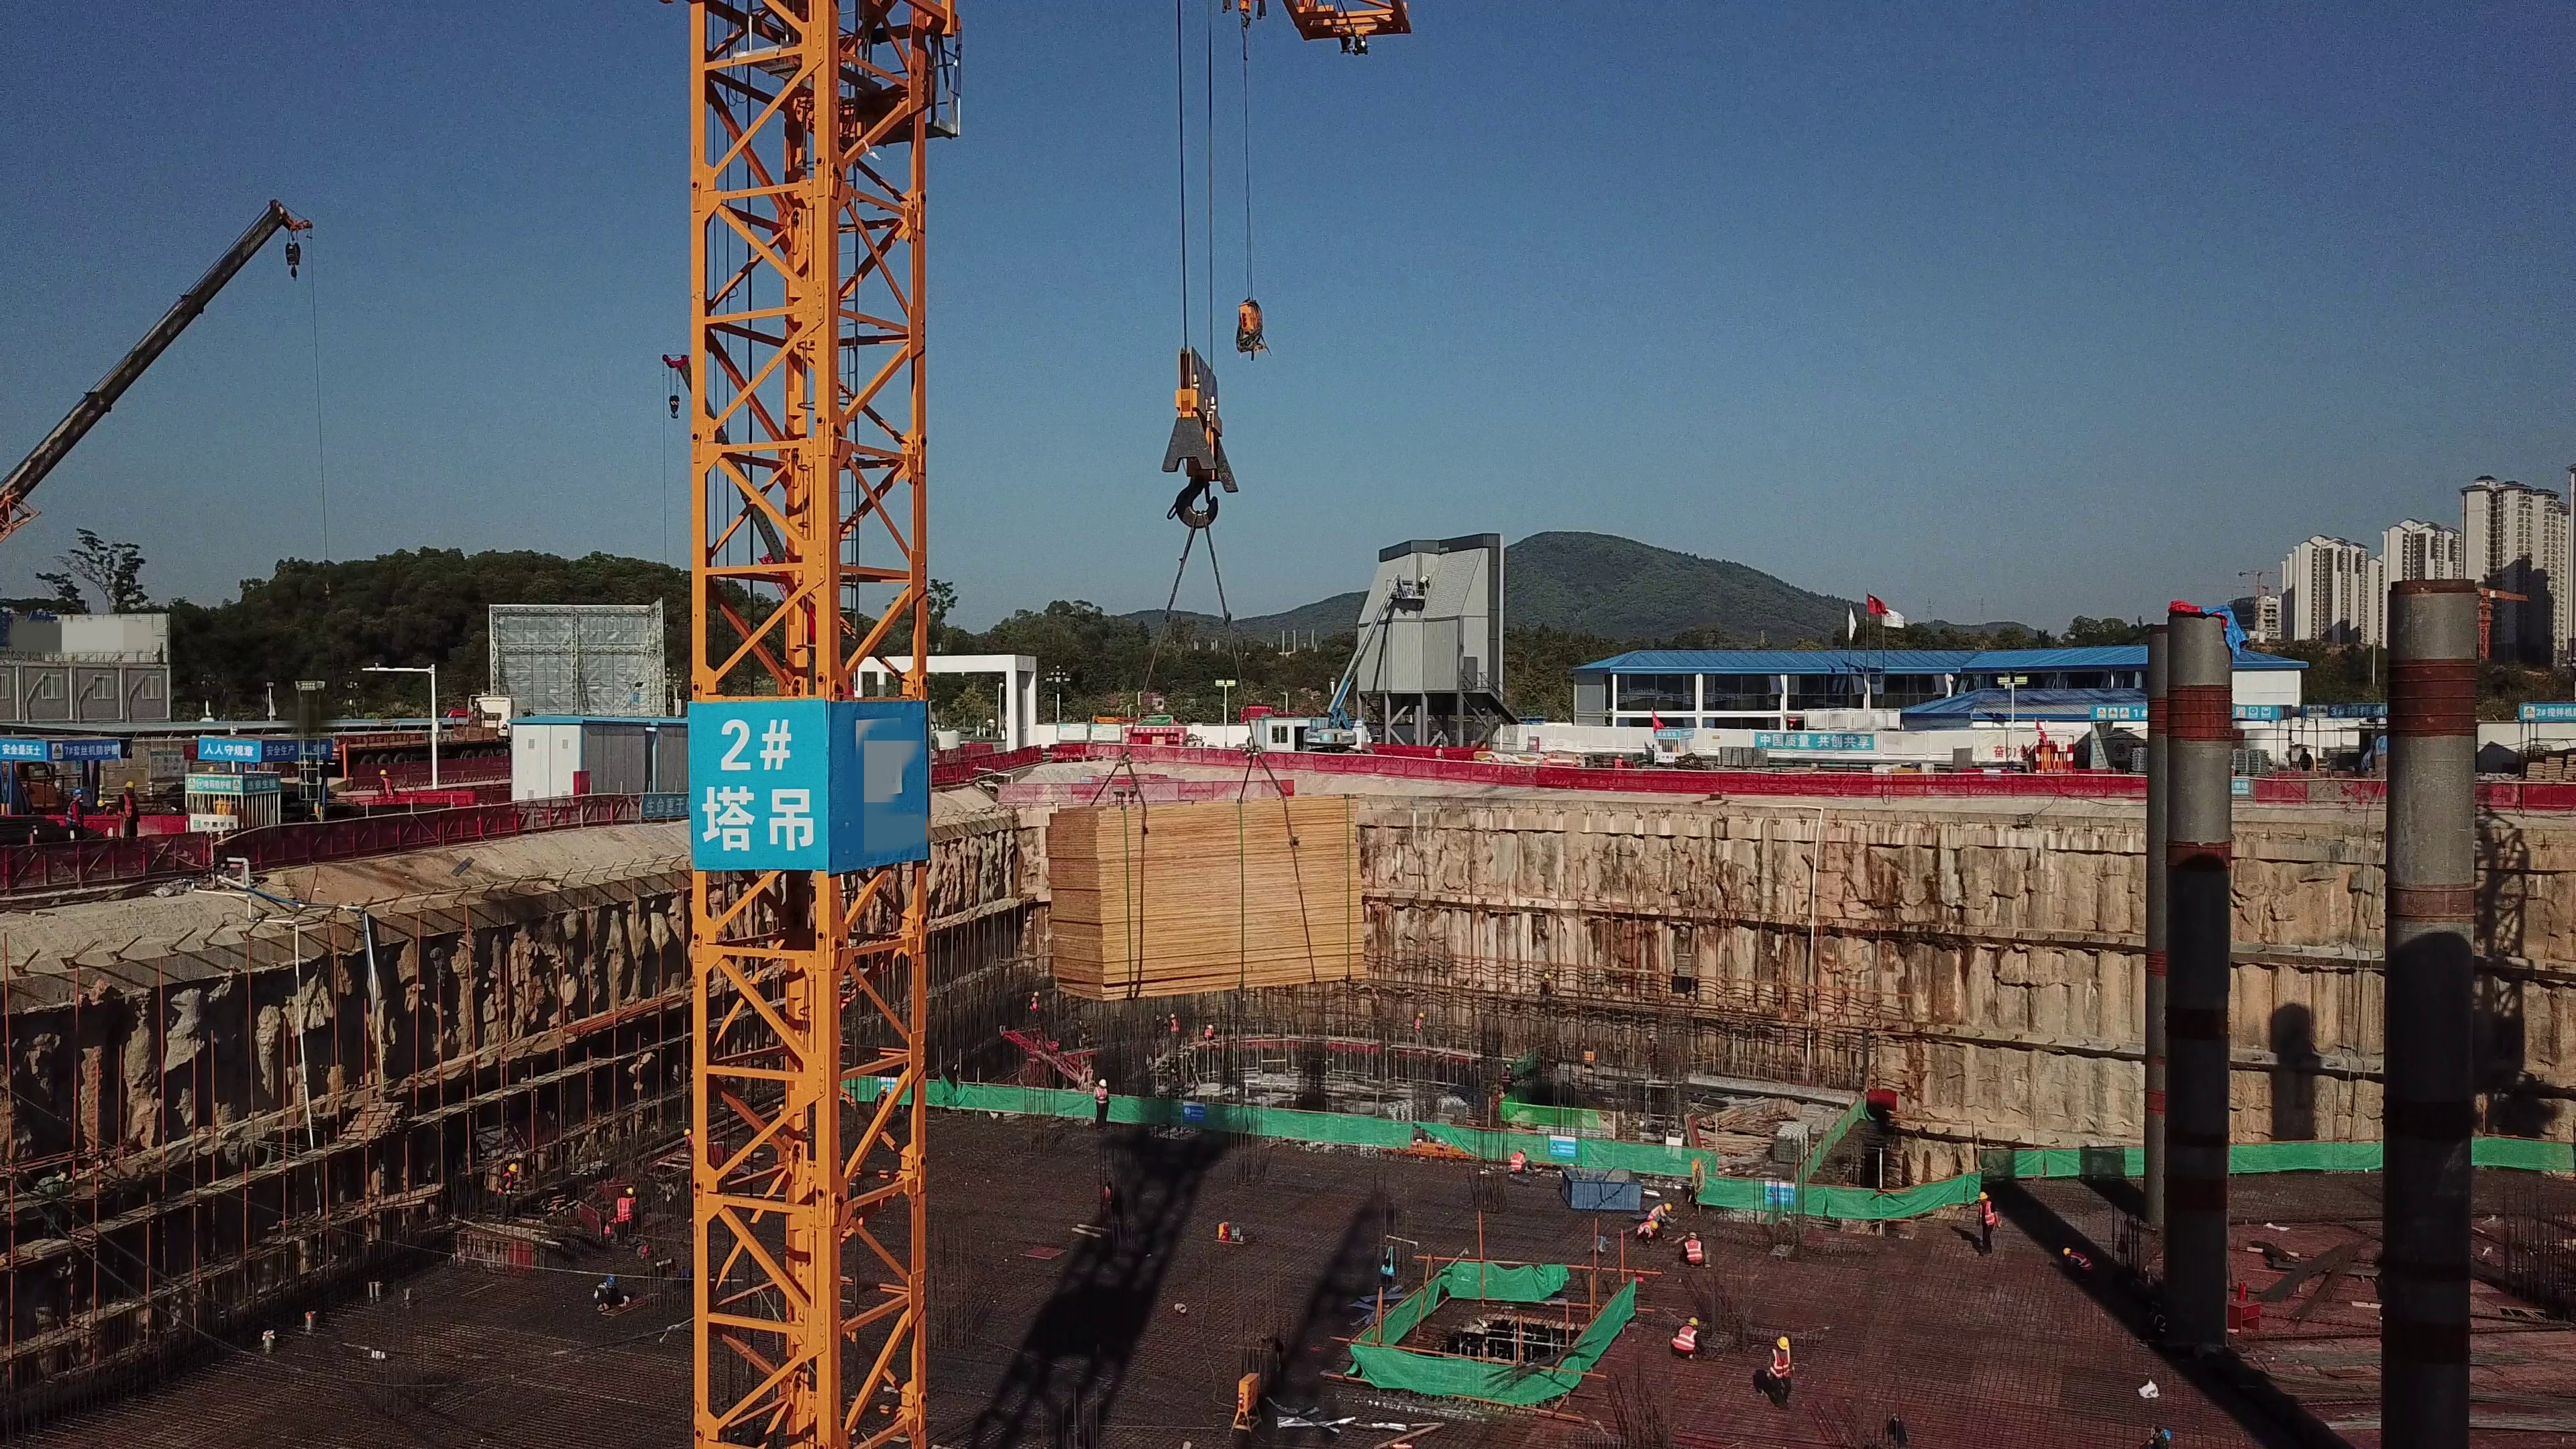helmet: (2164, 1424, 2176, 1444), (508, 1162, 520, 1175), (606, 1275, 618, 1287), (1777, 1336, 1788, 1348), (1977, 1189, 1989, 1201), (123, 782, 137, 791), (1686, 1316, 1701, 1325), (1664, 1201, 1674, 1214), (72, 788, 83, 798), (2061, 1246, 2070, 1256), (627, 1187, 635, 1196), (1099, 1079, 1107, 1087), (1417, 1011, 1426, 1020), (878, 1084, 889, 1091), (1686, 1232, 1701, 1239), (1505, 1063, 1515, 1070), (682, 1129, 692, 1136), (1521, 1145, 1529, 1154), (378, 769, 388, 775), (1652, 1221, 1658, 1232), (1032, 991, 1040, 998), (1615, 753, 1625, 757), (1169, 1013, 1177, 1019), (1575, 753, 1581, 759), (1207, 1024, 1215, 1028), (1438, 743, 1444, 748), (1542, 756, 1549, 759)
person: (1766, 1334, 1798, 1415), (609, 1185, 644, 1249), (1972, 1190, 2002, 1259), (493, 1161, 522, 1224), (1669, 1316, 1705, 1364), (588, 1273, 627, 1316), (117, 779, 140, 839), (1089, 1078, 1114, 1137), (1679, 1232, 1712, 1272), (1505, 1147, 1543, 1179), (62, 788, 87, 837), (869, 1083, 890, 1132), (1641, 1200, 1684, 1222), (2061, 1245, 2096, 1273), (1494, 1063, 1519, 1093), (1635, 1222, 1664, 1244), (1410, 1010, 1428, 1049), (377, 769, 396, 798), (1028, 989, 1042, 1028), (2294, 748, 2315, 771), (678, 1127, 697, 1151), (1169, 1012, 1183, 1042), (1152, 1013, 1170, 1036), (1568, 752, 1584, 767), (1201, 1023, 1216, 1040), (1610, 753, 1626, 768), (1433, 744, 1448, 759), (1539, 753, 1552, 766), (1487, 752, 1502, 762)
vest: (513, 1193, 707, 1205), (1771, 1352, 1794, 1382), (1673, 1325, 1699, 1352), (121, 790, 140, 818), (66, 799, 86, 825), (614, 1198, 633, 1222), (1685, 1242, 1704, 1265), (2071, 1248, 2092, 1269), (1979, 1203, 1998, 1228), (1646, 1203, 1664, 1220), (1096, 1087, 1110, 1107), (1511, 1153, 1524, 1172), (382, 778, 394, 795), (594, 1281, 606, 1297), (878, 1091, 887, 1113), (1412, 1020, 1424, 1032), (685, 1136, 695, 1150), (1502, 1071, 1512, 1084), (1638, 1222, 1651, 1234), (1030, 997, 1038, 1010), (1171, 1018, 1179, 1032), (1614, 758, 1623, 767), (1203, 1029, 1215, 1036), (1435, 749, 1444, 759)
